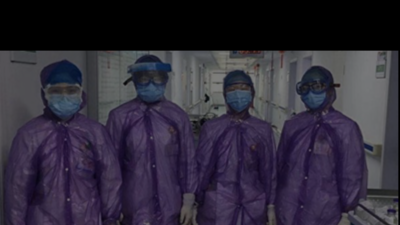with_mask: (43, 83, 83, 118), (133, 70, 167, 102), (298, 80, 328, 108), (225, 82, 252, 111)
